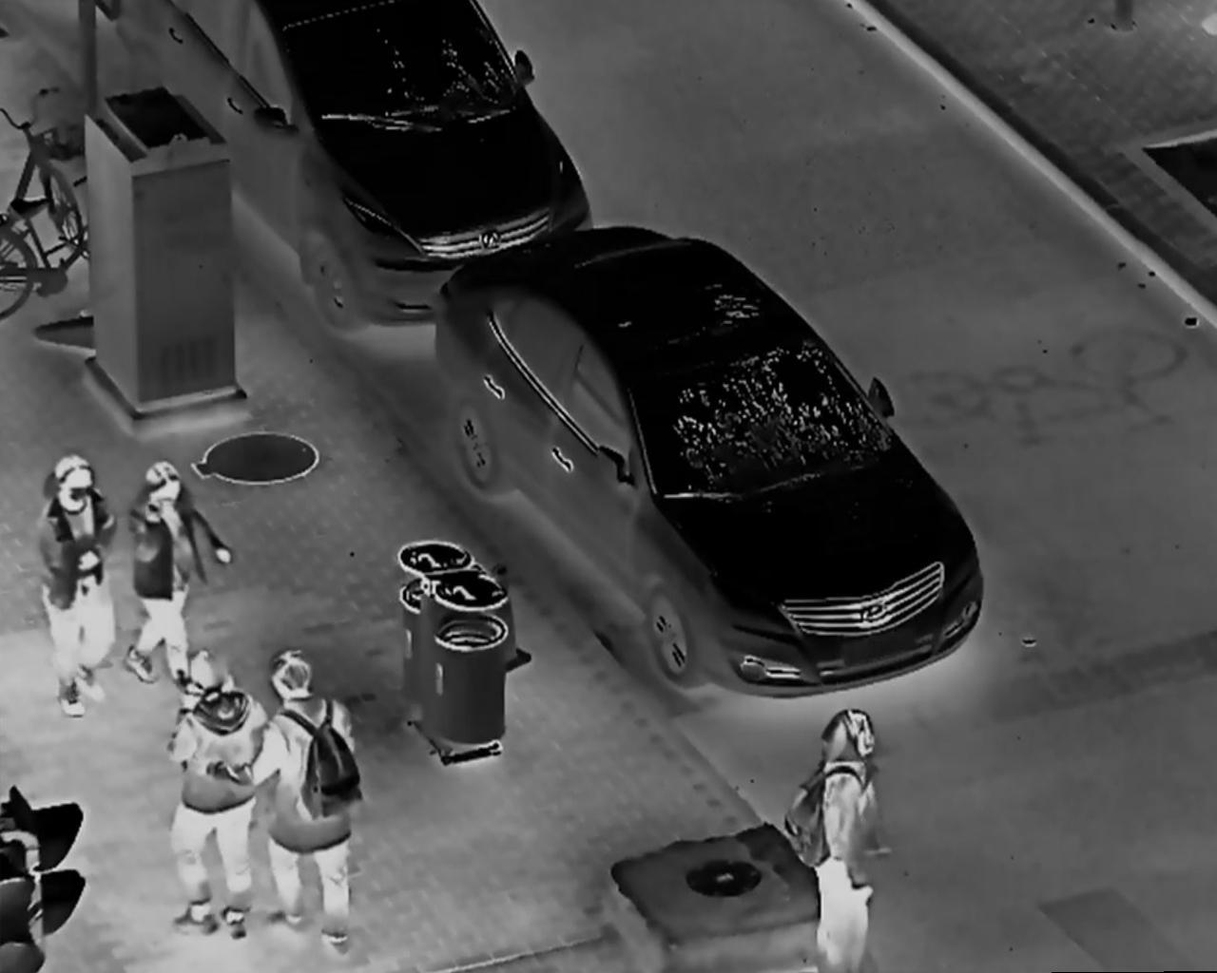person: (251, 648, 372, 946), (160, 643, 269, 943), (783, 703, 898, 973), (119, 457, 233, 682), (29, 450, 118, 716)
